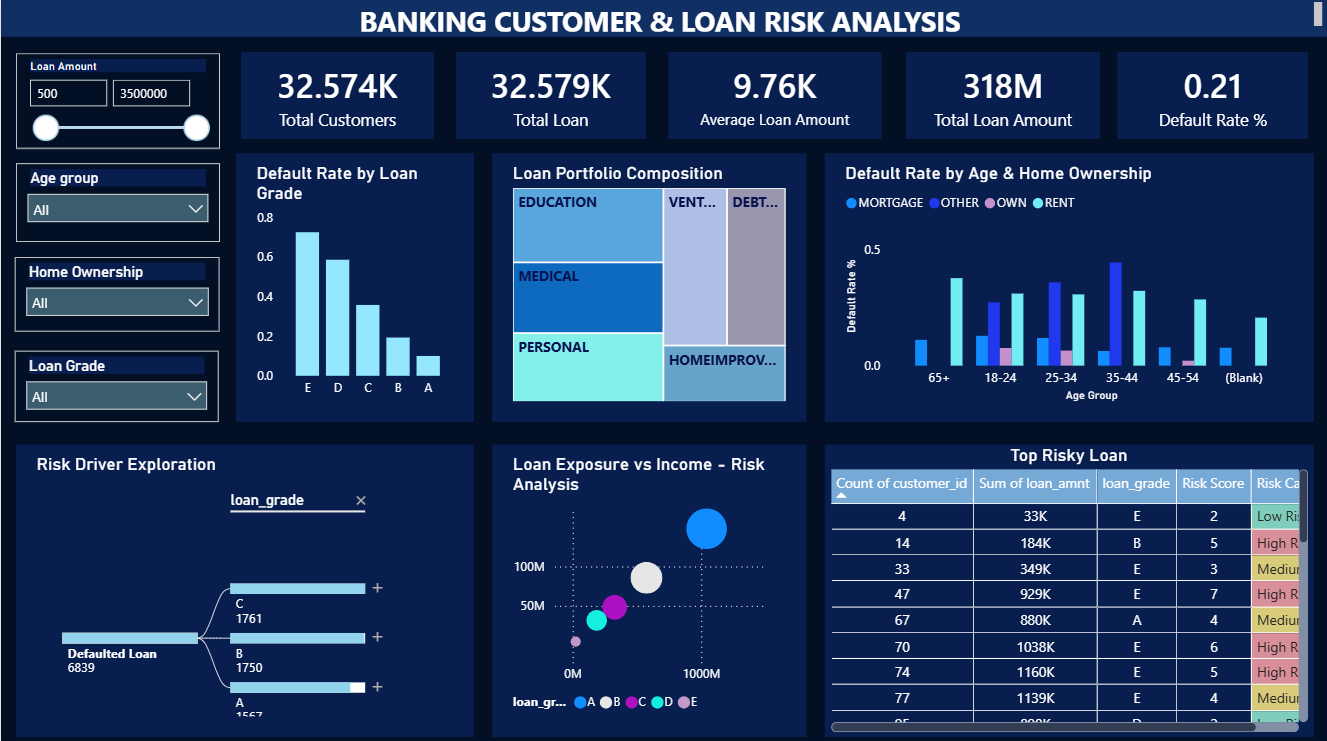

The dashboard page shown, as its layout file describes it:
{"tool":"powerbi","page":{"name":"Page 1","canvas":[1280,720],"ordinal":0},"visuals":[{"type":"cardVisual","fields":{"Data":["Count(LoanDataset - LoansDatasest.customer_id)"]},"box":[226.8,48.3,196.6,94.1],"z":0},{"type":"cardVisual","fields":{"Data":["CountNonNull(LoanDataset - LoansDatasest.customer_id)"]},"box":[434.3,48.3,193,94.1],"z":1000},{"type":"cardVisual","fields":{"Data":["LoanDataset - LoansDatasest.Default Rate %"]},"box":[1072.5,48.3,194.2,94.1],"z":2000},{"type":"cardVisual","fields":{"Data":["Sum(LoanDataset - LoansDatasest.loan_amnt)"]},"box":[868.6,48.3,197.9,94.1],"z":3000},{"type":"cardVisual","title":"Average Loan Amount","fields":{"Data":["Avg(LoanDataset - LoansDatasest.loan_amnt)"]},"box":[639.4,48.3,216,94.1],"z":4000},{"type":"columnChart","title":"Default Rate by Loan Grade","fields":{"Category":["LoanDataset - LoansDatasest.loan_grade"],"Y":["LoanDataset - LoansDatasest.Default Rate %"]},"box":[226.8,150.8,229.2,259.4],"z":5000},{"type":"treemap","title":"Loan Portfolio Composition","fields":{"Group":["LoanDataset - LoansDatasest.loan_intent"],"Values":["Sum(LoanDataset - LoansDatasest.loan_amnt)"]},"box":[474.1,150.8,302.8,259.4],"z":7000},{"type":"clusteredColumnChart","title":"Default Rate by Age & Home Ownership","fields":{"Category":["LoanDataset - LoansDatasest.Age group"],"Y":["LoanDataset - LoansDatasest.Default Rate %"],"Series":["LoanDataset - LoansDatasest.home_ownership"]},"box":[795,150.8,471.7,259.4],"z":9000},{"type":"decompositionTreeVisual","title":"Risk Driver Exploration","fields":{"Analyze":["LoanDataset - LoansDatasest.Defaulted Loan"],"ExplainBy":["LoanDataset - LoansDatasest.loan_grade","LoanDataset - LoansDatasest.term_years","LoanDataset - LoansDatasest.home_ownership","LoanDataset - LoansDatasest.loan_intent","LoanDataset - LoansDatasest.historical_default"]},"box":[14.5,431.9,441.6,282.3],"z":10000},{"type":"slicer","fields":{"Values":["LoanDataset - LoansDatasest.loan_grade"]},"box":[13.3,341.4,196.6,68.8],"z":11000},{"type":"slicer","fields":{"Values":["LoanDataset - LoansDatasest.Age group"]},"box":[14.5,160.5,196.6,76],"z":12000},{"type":"slicer","fields":{"Values":["LoanDataset - LoansDatasest.home_ownership"]},"box":[13.3,250.9,197.9,72.4],"z":13000},{"type":"slicer","fields":{"Values":["LoanDataset - LoansDatasest.loan_amnt"]},"box":[14.5,54.3,196.6,91.7],"z":14000},{"type":"textbox","box":[0,0,1280,38.6],"z":15000},{"type":"scatterChart","title":"Loan Exposure vs Income - Risk Analysis","fields":{"X":["Sum(LoanDataset - LoansDatasest.customer_income)"],"Y":["Sum(LoanDataset - LoansDatasest.loan_amnt)"],"Series":["LoanDataset - LoansDatasest.loan_grade"],"Size":["Sum(LoanDataset - LoansDatasest.loan_amnt)"]},"box":[474.1,431.9,302.8,282.3],"z":16000},{"type":"tableEx","title":"Top Risky Loan","fields":{"Values":["Count(LoanDataset - LoansDatasest.customer_id)","Sum(LoanDataset - LoansDatasest.loan_amnt)","LoanDataset - LoansDatasest.loan_grade","LoanDataset - LoansDatasest.Risk Score","LoanDataset - LoansDatasest.Risk Category"]},"box":[795,431.9,471.7,282.3],"z":17000}]}

Visuals, with their boxes in screenshot pixels (x1, y1, x2, y2), scaled from the page's 1280x720 canvas onto the 1327x741 screenshot:
cardVisual - Count(LoanDataset - LoansDatasest.customer_id): region(235, 50, 439, 147)
cardVisual - CountNonNull(LoanDataset - LoansDatasest.customer_id): region(450, 50, 650, 147)
cardVisual - LoanDataset - LoansDatasest.Default Rate %: region(1112, 50, 1313, 147)
cardVisual - Sum(LoanDataset - LoansDatasest.loan_amnt): region(900, 50, 1106, 147)
"Average Loan Amount" cardVisual: region(663, 50, 887, 147)
"Default Rate by Loan Grade" columnChart: region(235, 155, 473, 422)
"Loan Portfolio Composition" treemap: region(492, 155, 805, 422)
"Default Rate by Age & Home Ownership" clusteredColumnChart: region(824, 155, 1313, 422)
"Risk Driver Exploration" decompositionTreeVisual: region(15, 444, 473, 735)
slicer - LoanDataset - LoansDatasest.loan_grade: region(14, 351, 218, 422)
slicer - LoanDataset - LoansDatasest.Age group: region(15, 165, 219, 243)
slicer - LoanDataset - LoansDatasest.home_ownership: region(14, 258, 219, 333)
slicer - LoanDataset - LoansDatasest.loan_amnt: region(15, 56, 219, 150)
textbox: region(0, 0, 1326, 40)
"Loan Exposure vs Income - Risk Analysis" scatterChart: region(492, 444, 805, 735)
"Top Risky Loan" tableEx: region(824, 444, 1313, 735)
